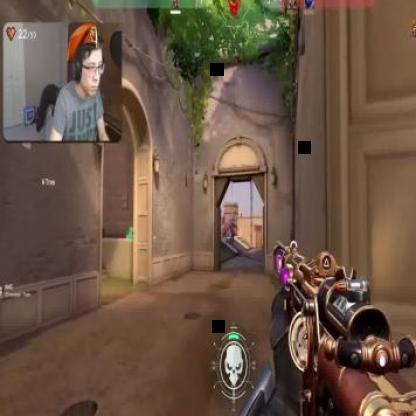enemy: (229, 216, 235, 244), (222, 224, 226, 235), (229, 218, 233, 222)
